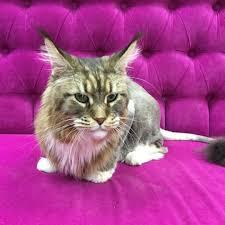animals: (34, 26, 225, 184)
